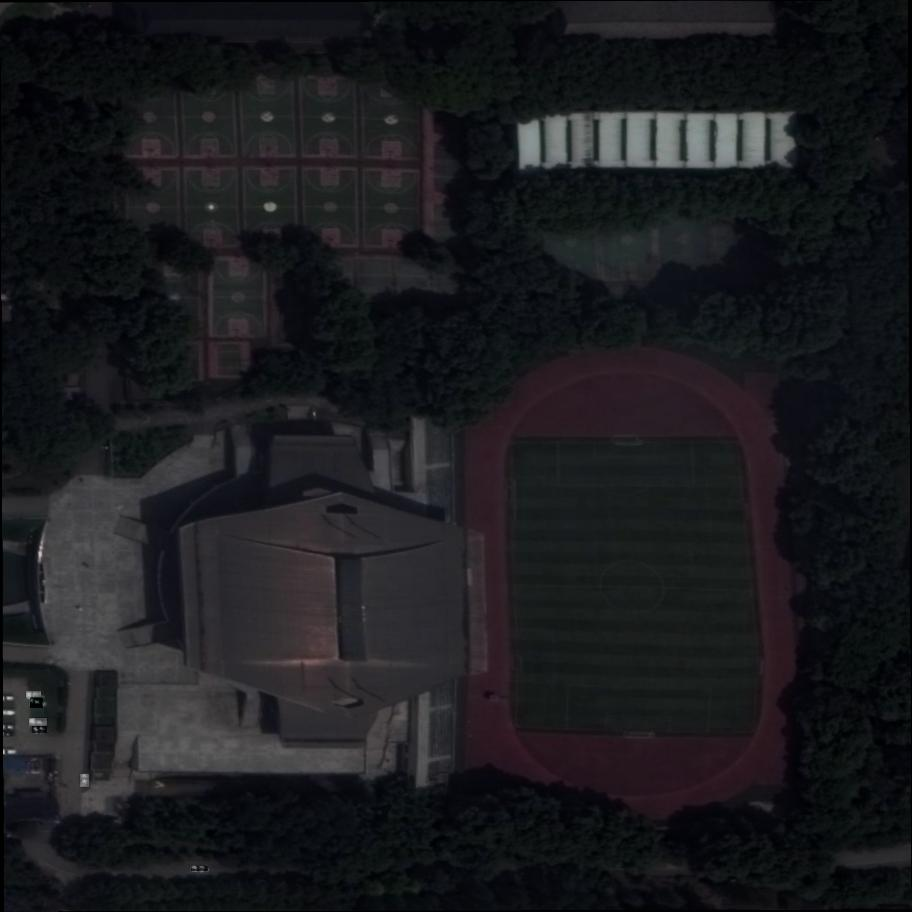small-vehicle: (29, 718, 48, 728), (80, 773, 90, 788), (30, 698, 43, 709), (32, 727, 47, 732), (27, 692, 41, 697), (191, 866, 208, 870)
